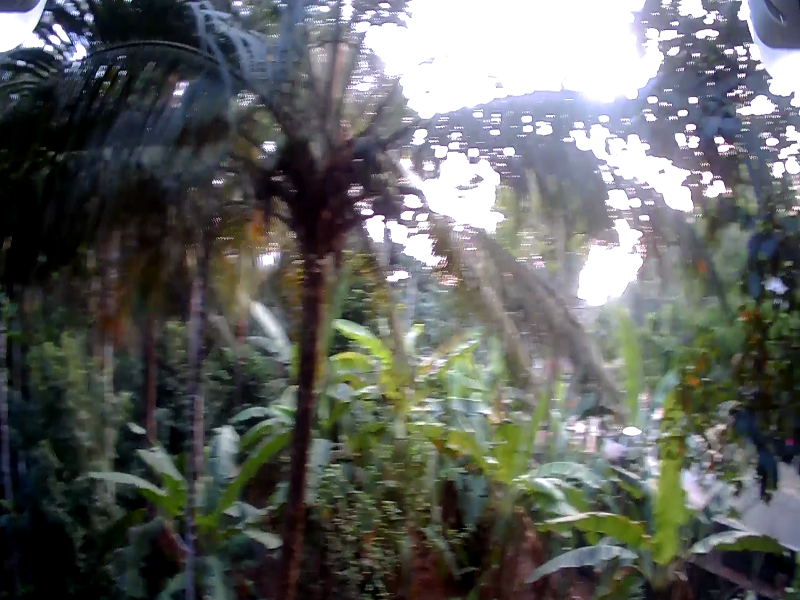coconut: (368, 169, 384, 191)
